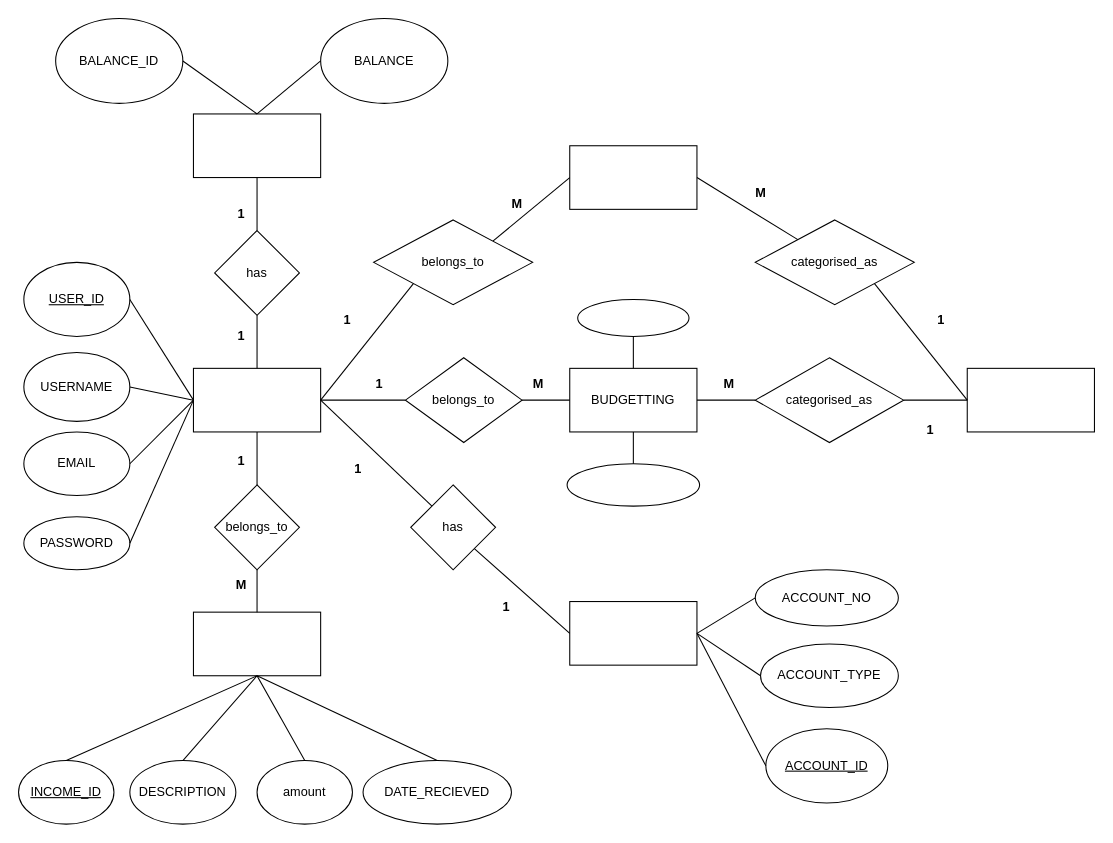
Image size: 1113x843. Some labels were removed from this diagram. The centre of each missing label's shape, as x and y in pixels:
ACCOUNT_DETAILS: point (633, 632)
BUDGET_AMT: point (633, 484)
BUDGET_ID: point (633, 317)
CATEGORIES: point (1030, 399)
USERS: point (256, 399)
USERS_BALANCE: point (256, 145)
USERS_EXPENSE: point (633, 177)
USERS_INCOME: point (256, 643)
